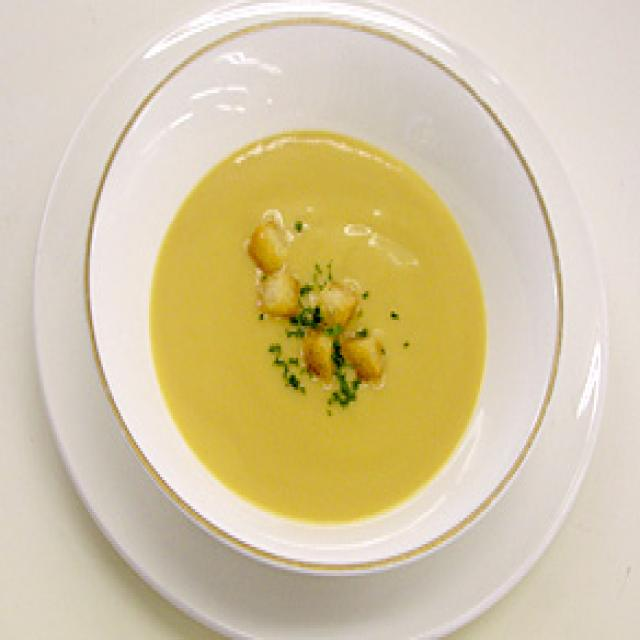汤锅炖物: (17, 3, 616, 640)
